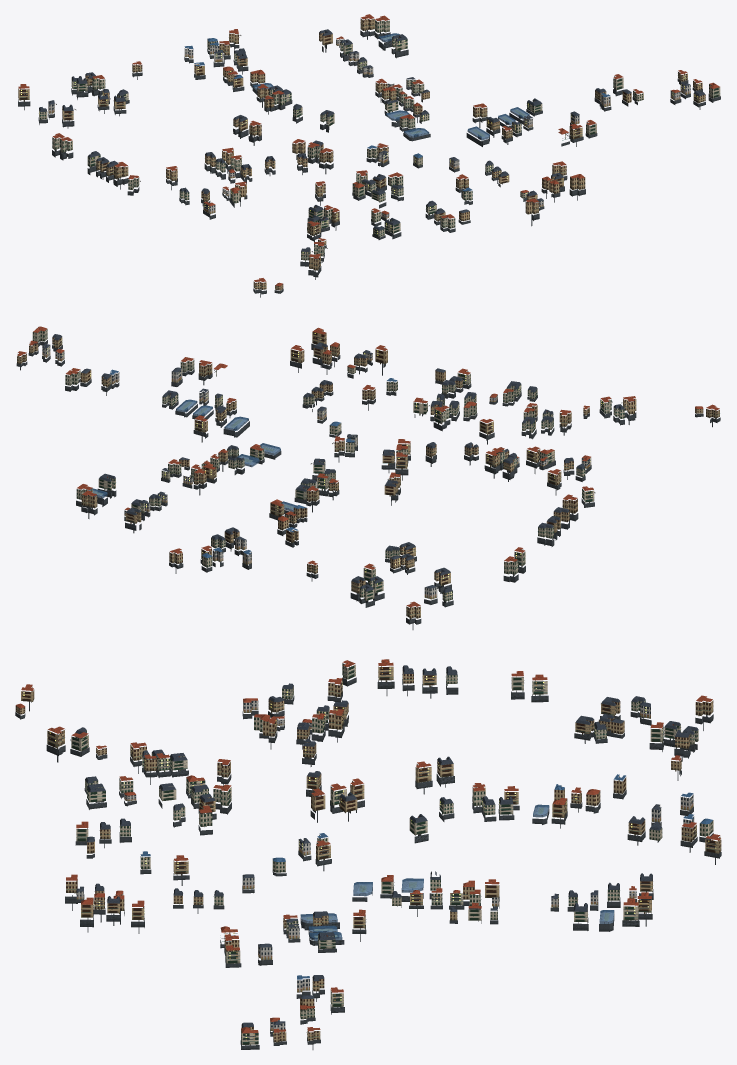
File: osm_buildings_T_E00_N00_Q1.glb
The picture shows the model from 3 angles, top to bottom: view 1: azimuth 30°, elevation 25°; view 2: azimuth 150°, elevation 25°; view 3: azimuth 270°, elevation 25°; orthographic projection. The views are drawn at different scales.
Parts seen in each view (by area): view 1: OSM_PBR_T_E00_N00_Q1_foundation, OSM_PBR_T_E00_N00_Q1_wall_french_ochre, OSM_PBR_T_E00_N00_Q1_wall_cream_stucco, OSM_PBR_T_E00_N00_Q1_roof_terracotta, OSM_PBR_T_E00_N00_Q1_roof_mansard_slate, OSM_PBR_T_E00_N00_Q1_roof_mansard_deck, OSM_PBR_T_E00_N00_Q1_wall_warm_white, OSM_PBR_T_E00_N00_Q1_greenhouse_blend, OSM_PBR_T_E00_N00_Q1_roof_mint_metal, OSM_PBR_T_E00_N00_Q1_trim_cornice; view 2: OSM_PBR_T_E00_N00_Q1_wall_french_ochre, OSM_PBR_T_E00_N00_Q1_foundation, OSM_PBR_T_E00_N00_Q1_wall_cream_stucco, OSM_PBR_T_E00_N00_Q1_roof_terracotta, OSM_PBR_T_E00_N00_Q1_roof_mansard_slate, OSM_PBR_T_E00_N00_Q1_roof_mansard_deck, OSM_PBR_T_E00_N00_Q1_wall_warm_white, OSM_PBR_T_E00_N00_Q1_greenhouse_blend, OSM_PBR_T_E00_N00_Q1_roof_mint_metal, OSM_PBR_T_E00_N00_Q1_trim_cornice; view 3: OSM_PBR_T_E00_N00_Q1_foundation, OSM_PBR_T_E00_N00_Q1_wall_french_ochre, OSM_PBR_T_E00_N00_Q1_wall_cream_stucco, OSM_PBR_T_E00_N00_Q1_roof_terracotta, OSM_PBR_T_E00_N00_Q1_roof_mansard_slate, OSM_PBR_T_E00_N00_Q1_roof_mansard_deck, OSM_PBR_T_E00_N00_Q1_wall_warm_white, OSM_PBR_T_E00_N00_Q1_greenhouse_blend, OSM_PBR_T_E00_N00_Q1_trim_cornice, OSM_PBR_T_E00_N00_Q1_roof_mint_metal, OSM_PBR_T_E00_N00_Q1_balcony_railing.
Boxes of the visible parts, x1=… form: OSM_PBR_T_E00_N00_Q1_foundation: x1=18, y1=30, x2=720, y2=297; OSM_PBR_T_E00_N00_Q1_wall_french_ochre: x1=18, y1=19, x2=705, y2=290; OSM_PBR_T_E00_N00_Q1_wall_cream_stucco: x1=39, y1=20, x2=720, y2=261; OSM_PBR_T_E00_N00_Q1_roof_terracotta: x1=18, y1=14, x2=719, y2=286; OSM_PBR_T_E00_N00_Q1_roof_mansard_slate: x1=39, y1=30, x2=705, y2=251; OSM_PBR_T_E00_N00_Q1_roof_mansard_deck: x1=40, y1=29, x2=703, y2=249; OSM_PBR_T_E00_N00_Q1_wall_warm_white: x1=48, y1=39, x2=610, y2=218; OSM_PBR_T_E00_N00_Q1_greenhouse_blend: x1=253, y1=33, x2=529, y2=140; OSM_PBR_T_E00_N00_Q1_roof_mint_metal: x1=20, y1=25, x2=719, y2=286; OSM_PBR_T_E00_N00_Q1_trim_cornice: x1=22, y1=19, x2=718, y2=286; OSM_PBR_T_E00_N00_Q1_wall_french_ochre: x1=17, y1=330, x2=719, y2=618; OSM_PBR_T_E00_N00_Q1_foundation: x1=16, y1=340, x2=720, y2=629; OSM_PBR_T_E00_N00_Q1_wall_cream_stucco: x1=32, y1=329, x2=624, y2=601; OSM_PBR_T_E00_N00_Q1_roof_terracotta: x1=17, y1=326, x2=719, y2=607; OSM_PBR_T_E00_N00_Q1_roof_mansard_slate: x1=42, y1=335, x2=624, y2=592; OSM_PBR_T_E00_N00_Q1_roof_mansard_deck: x1=54, y1=334, x2=622, y2=590; OSM_PBR_T_E00_N00_Q1_wall_warm_white: x1=110, y1=351, x2=591, y2=599; OSM_PBR_T_E00_N00_Q1_greenhouse_blend: x1=86, y1=399, x2=296, y2=511; OSM_PBR_T_E00_N00_Q1_roof_mint_metal: x1=17, y1=335, x2=719, y2=614; OSM_PBR_T_E00_N00_Q1_trim_cornice: x1=17, y1=330, x2=634, y2=611; OSM_PBR_T_E00_N00_Q1_foundation: x1=15, y1=677, x2=721, y2=1049; OSM_PBR_T_E00_N00_Q1_wall_french_ochre: x1=15, y1=661, x2=721, y2=1042; OSM_PBR_T_E00_N00_Q1_wall_cream_stucco: x1=71, y1=663, x2=713, y2=1045; OSM_PBR_T_E00_N00_Q1_roof_terracotta: x1=16, y1=659, x2=720, y2=1033; OSM_PBR_T_E00_N00_Q1_roof_mansard_slate: x1=75, y1=665, x2=698, y2=1027; OSM_PBR_T_E00_N00_Q1_roof_mansard_deck: x1=77, y1=665, x2=696, y2=1026; OSM_PBR_T_E00_N00_Q1_wall_warm_white: x1=76, y1=700, x2=693, y2=992; OSM_PBR_T_E00_N00_Q1_greenhouse_blend: x1=300, y1=804, x2=614, y2=940; OSM_PBR_T_E00_N00_Q1_trim_cornice: x1=16, y1=663, x2=719, y2=1039; OSM_PBR_T_E00_N00_Q1_roof_mint_metal: x1=47, y1=671, x2=720, y2=1042; OSM_PBR_T_E00_N00_Q1_balcony_railing: x1=48, y1=666, x2=716, y2=1039.
Bounding box in the file's own units: 986 × 89.33 × 826.
18 materials, 16 textured.
